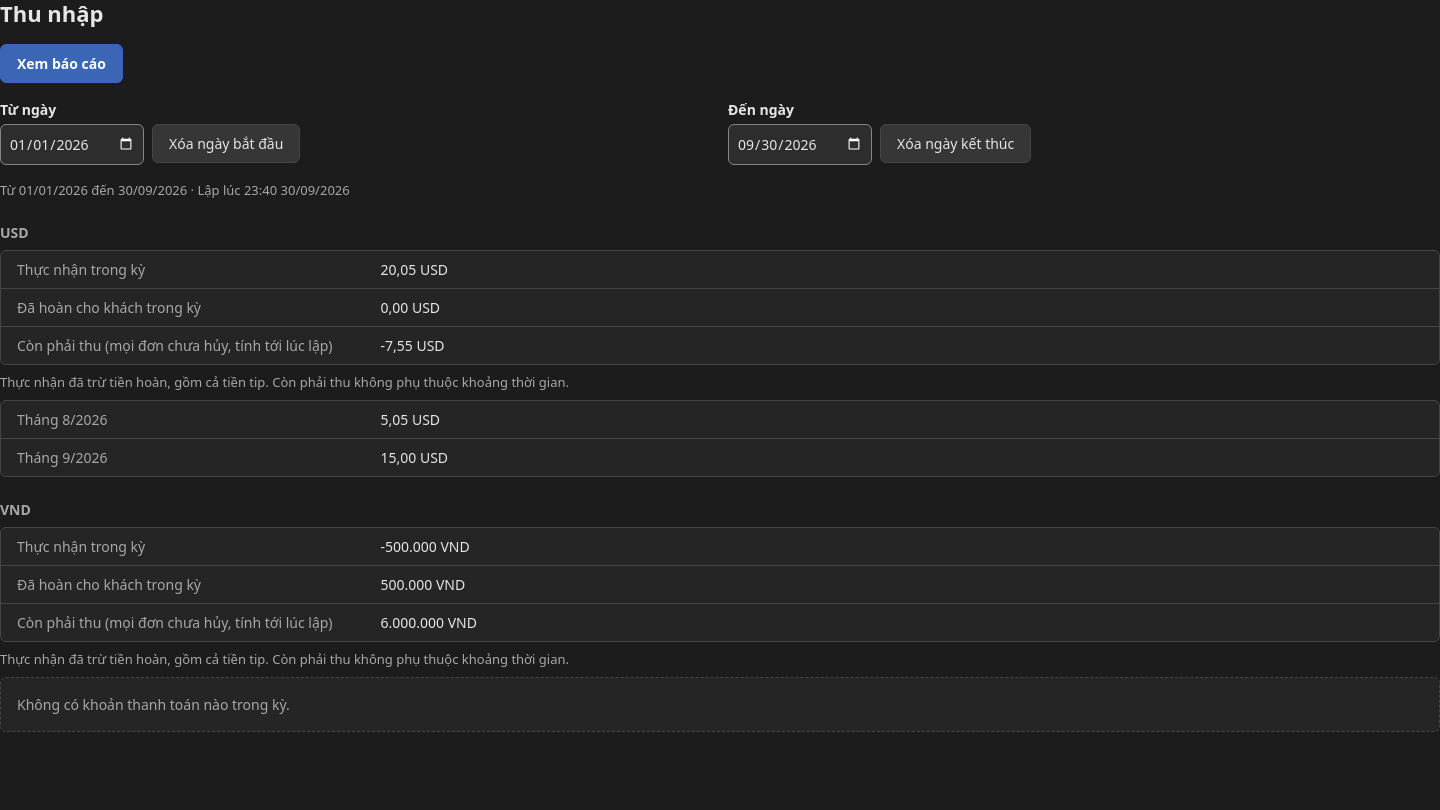
page income_report — a draft the format check rejects › the sentence appears under the field, the alert says the draft was not sent, the report on screen stays, the draft stays as chosen
Step 1. Type "2026-10-01" into the date field labelled "Từ ngày" → x=72, y=144, box [0,124,144,164]
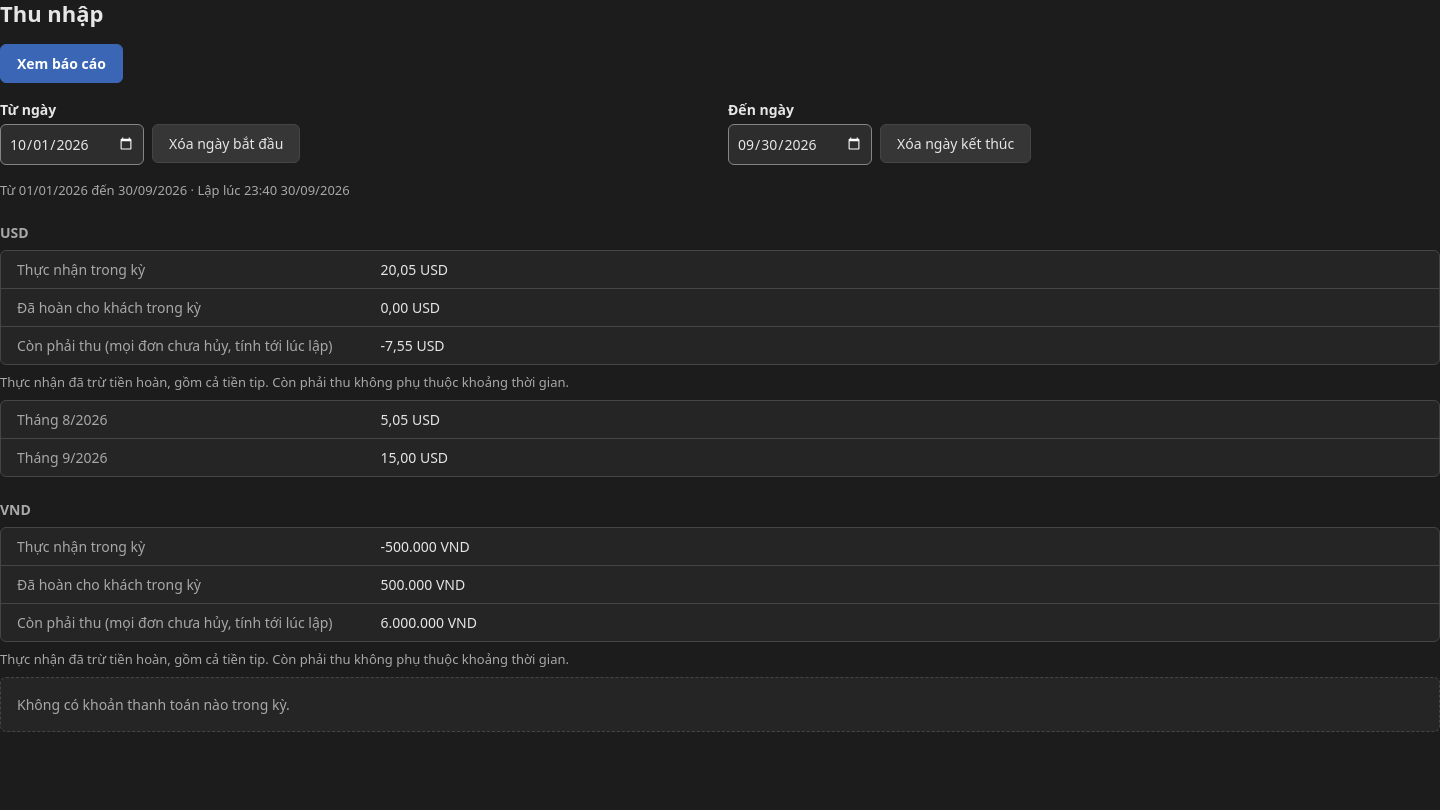
Step 2. Click the button "Xem báo cáo" → x=62, y=63, box [0,44,123,82]
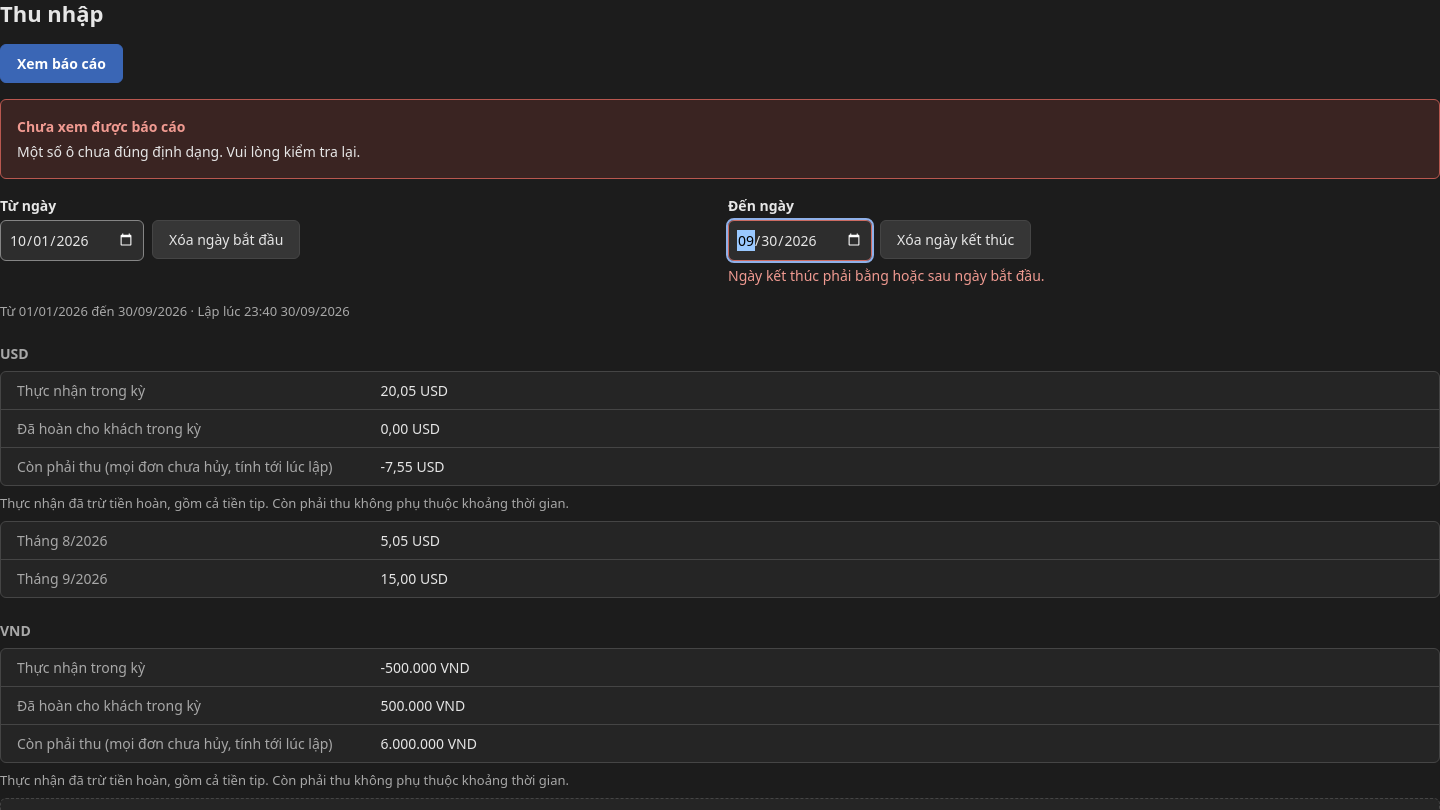
Expected: the text "Từ 01/01/2026 đến 30/09/2026 · Lập lúc 23:40 30/09/2026" is shown, [0,302,350,320]
Now the message shows "Một số ô chưa đúng định dạng. Vui lòng kiểm tra lại.", box [17,142,360,160]
Now the text "Ngày kết thúc phải bằng hoặc sau ngày bắt đầu." is shown, box [728,266,1044,284]
